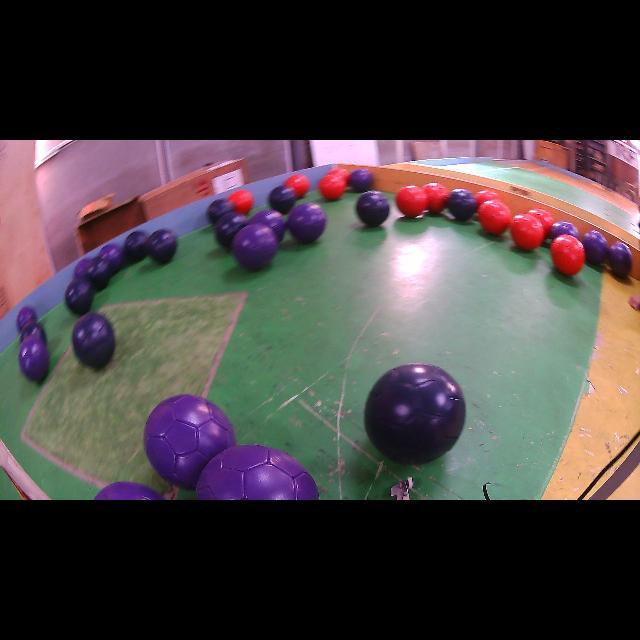B: (364, 362, 466, 464), (72, 312, 115, 369), (215, 211, 249, 249), (356, 191, 389, 226), (146, 229, 178, 264), (65, 278, 94, 315), (446, 189, 478, 221), (86, 256, 112, 290), (269, 185, 298, 214), (124, 231, 149, 261), (208, 199, 234, 224), (20, 322, 46, 344)
P: (144, 395, 236, 489), (196, 444, 319, 500), (232, 224, 278, 270), (288, 202, 326, 244), (19, 335, 50, 381), (94, 481, 164, 499), (249, 210, 285, 241), (582, 230, 608, 264), (609, 241, 632, 278), (98, 244, 124, 273), (548, 221, 579, 240), (16, 306, 38, 331), (349, 169, 372, 191), (74, 259, 91, 278)
R: (550, 234, 585, 276), (510, 214, 545, 251), (395, 185, 429, 218), (478, 201, 511, 235), (422, 182, 449, 212), (528, 209, 554, 237), (319, 175, 346, 200), (228, 190, 254, 214), (284, 174, 310, 198), (475, 190, 501, 205), (328, 168, 350, 182)
